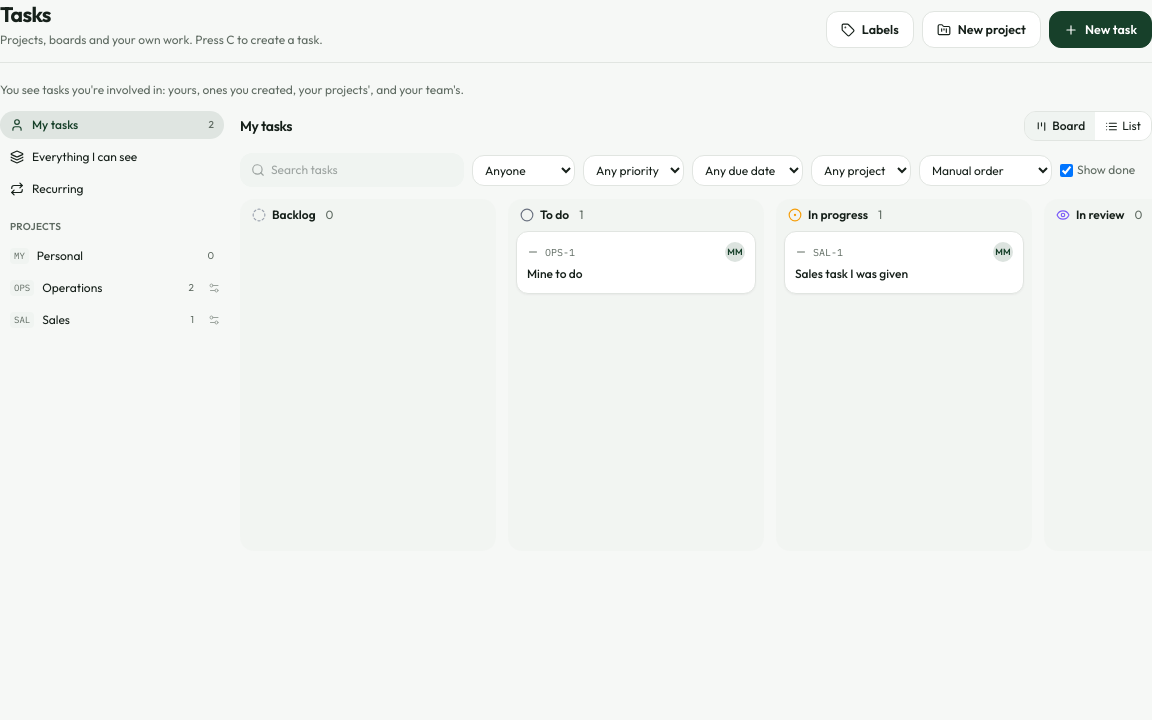
Test: TaskWorkspace (staff) › everyone has the Personal project, first, for their own tasks (no settings, no group tasks)
Check: the text "Mine to do" is shown, box [527,266,583,281]
What coordinates should you click on to do the following:
click the button "MY Personal 0"
I would click on:
 (112, 256)
Its box is [0,242,224,270].
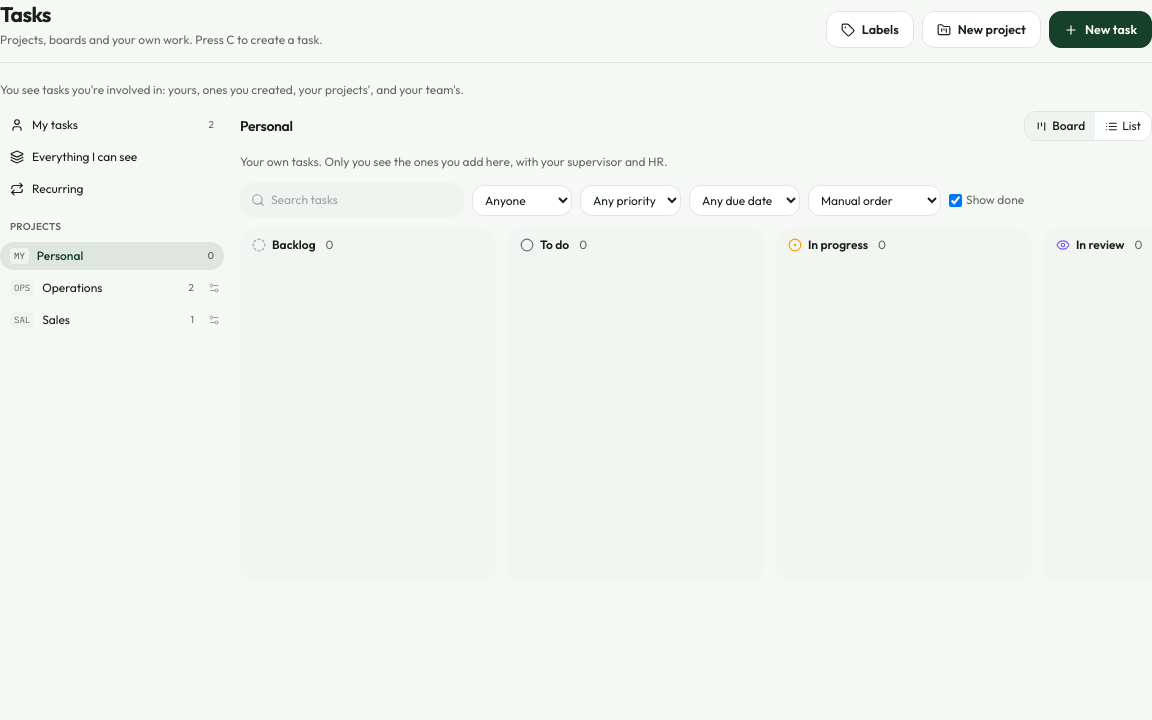
Check: the text "Your own tasks" is shown, box [240,154,667,169]
What coordinates should you click on to do the following:
click the button "New task"
I would click on:
 (1100, 30)
Its box is [1049,11,1151,48].
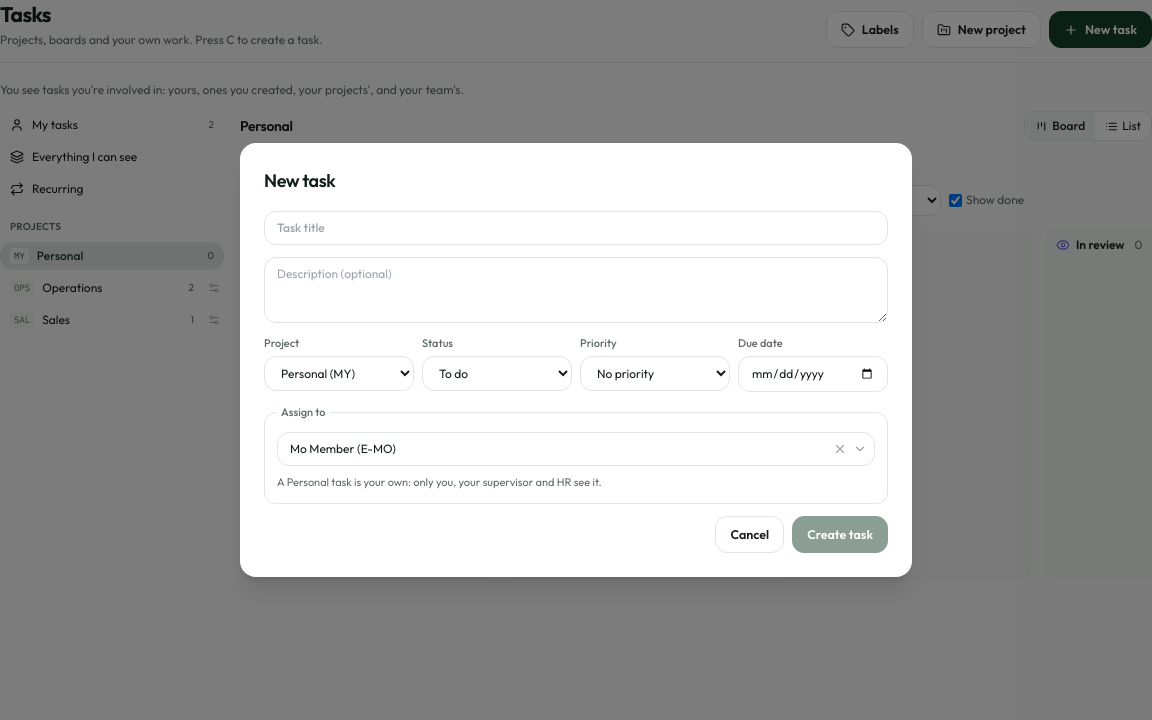
Check: the dropdown labelled "Project" shows "Personal (MY)", box [264,356,414,391]
Check: the text "A Personal task is your own" is shown, box [277,475,602,489]
